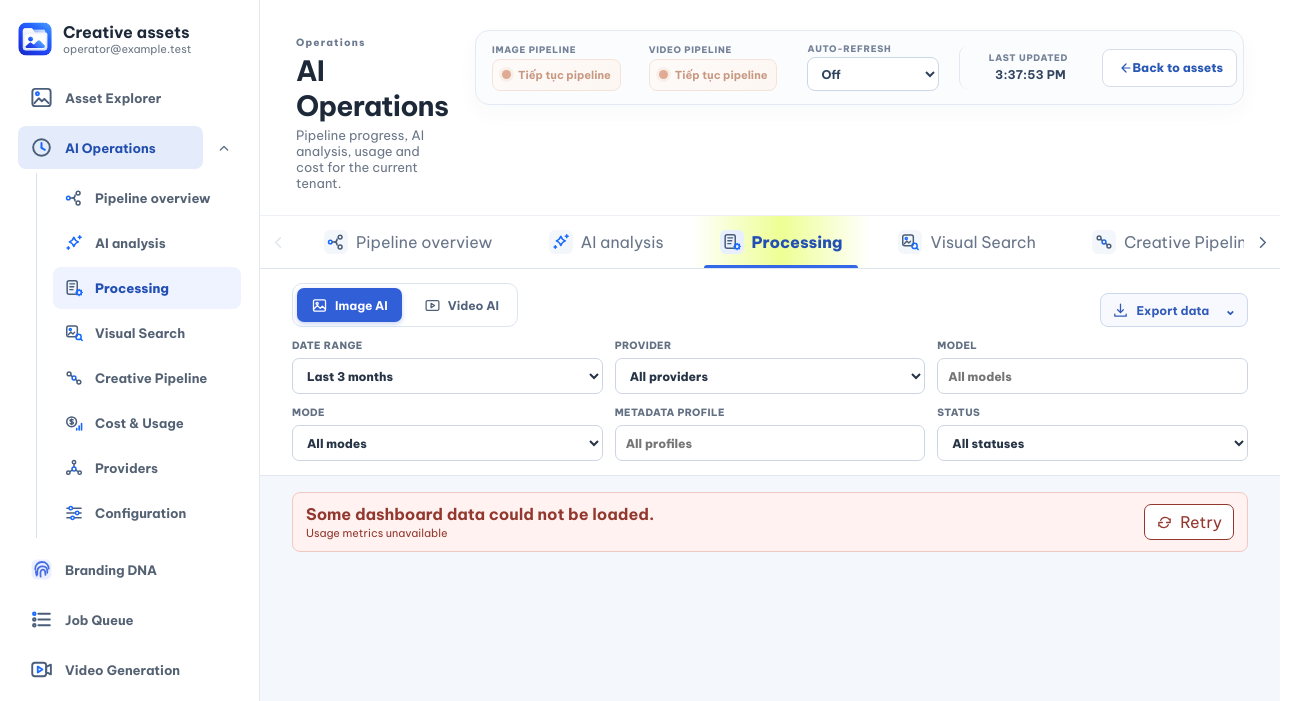
Test: AI Operations live tab requests › shows a secondary failure only on its own tab
Click the tab "AI analysis": {"x": 606, "y": 242} [520,216,692,268]
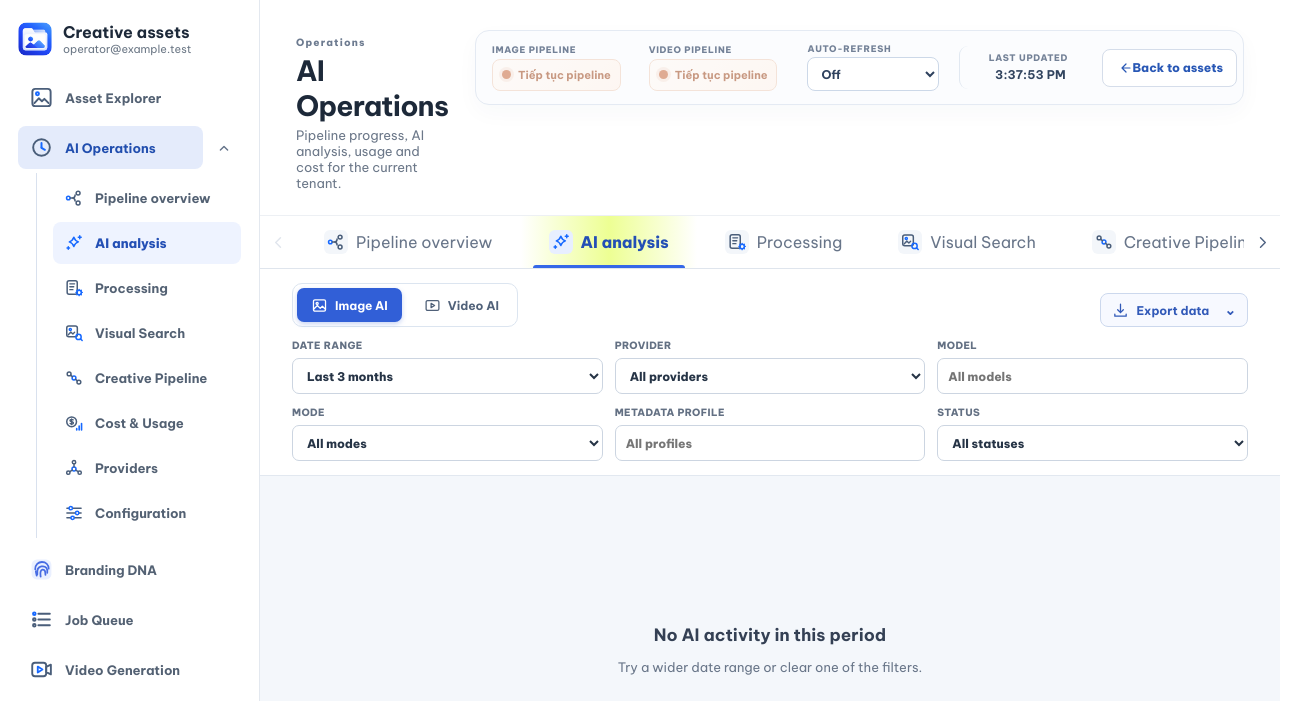
Check: the text "Usage metrics unavailable" is gone
Click the tab with id "ops-tab-processing": {"x": 784, "y": 242} [697,216,870,268]
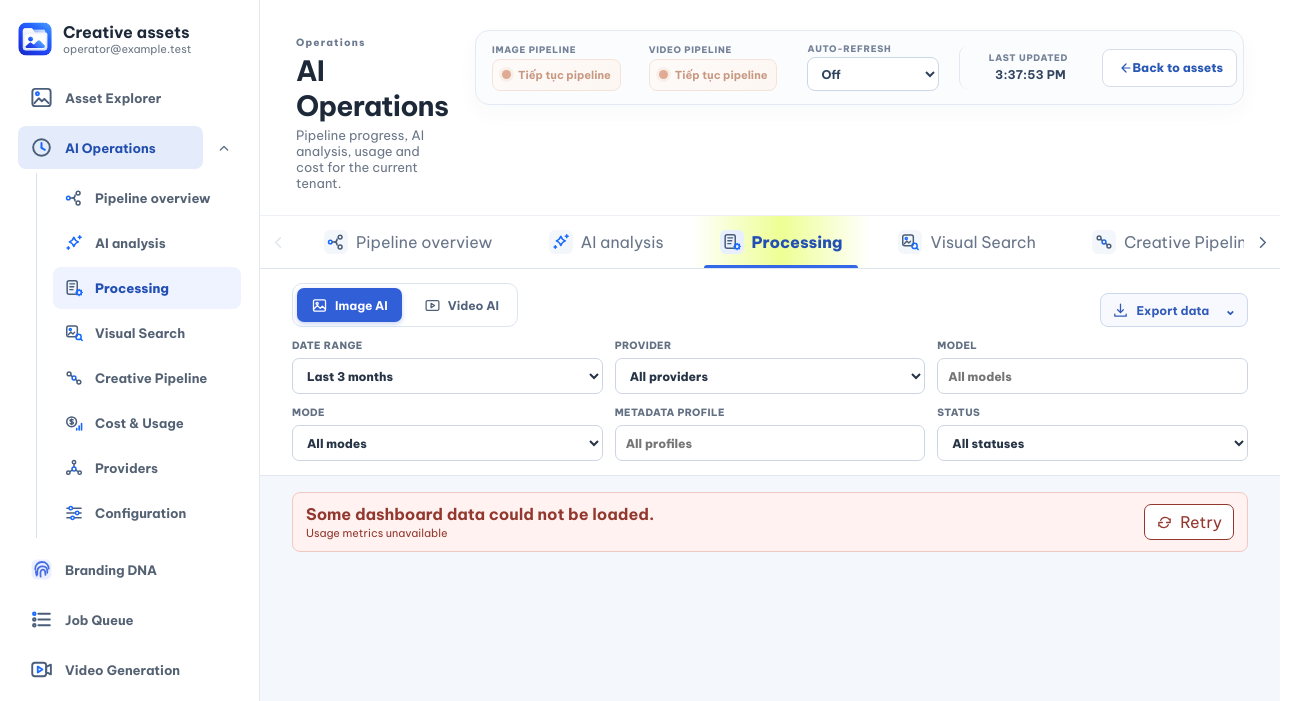
Check: the text "Usage metrics unavailable" is shown, box [306,526,448,540]
